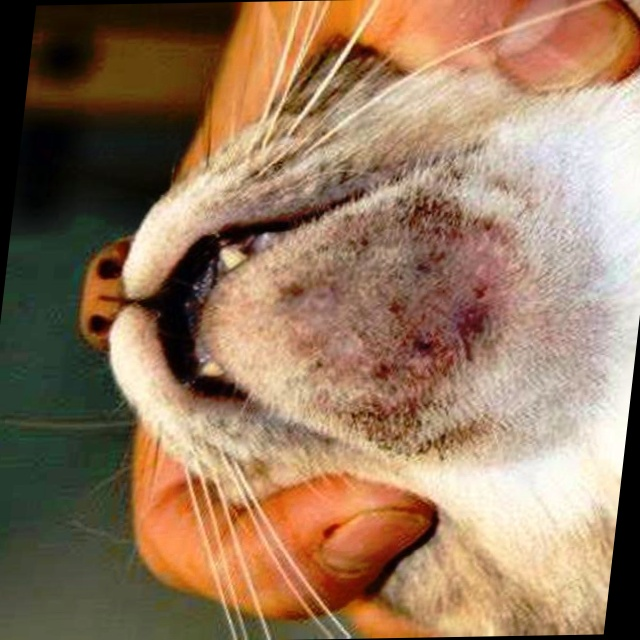acne: (264, 184, 522, 441)
